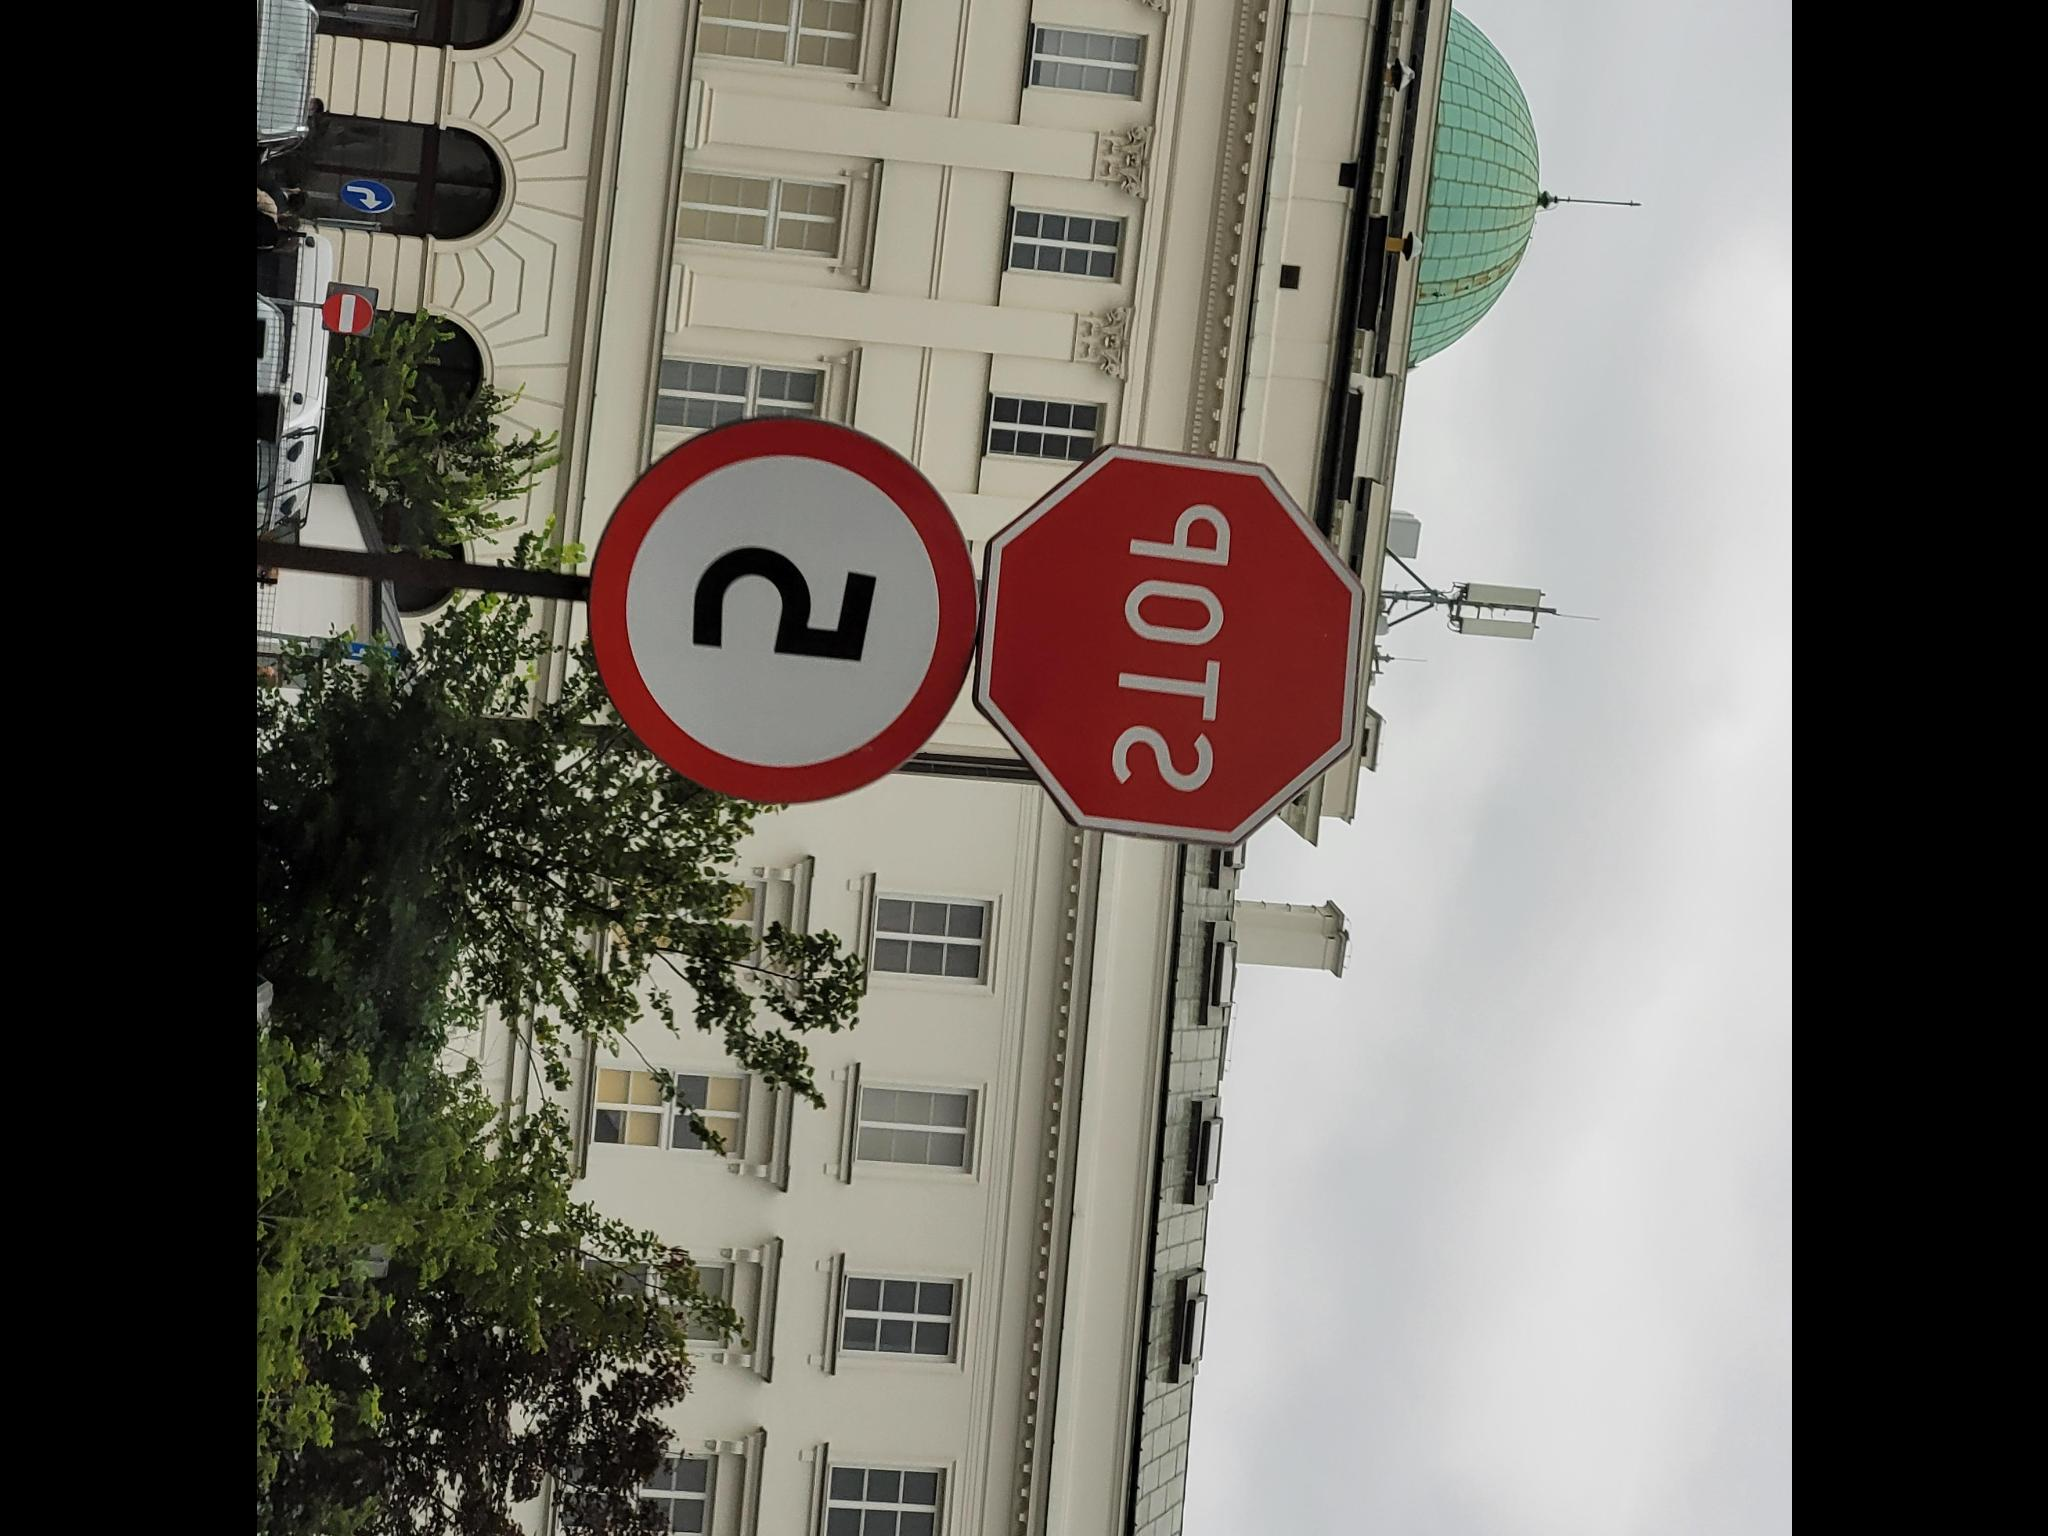prohibitory: (972, 447, 1367, 849), (589, 411, 982, 807)
